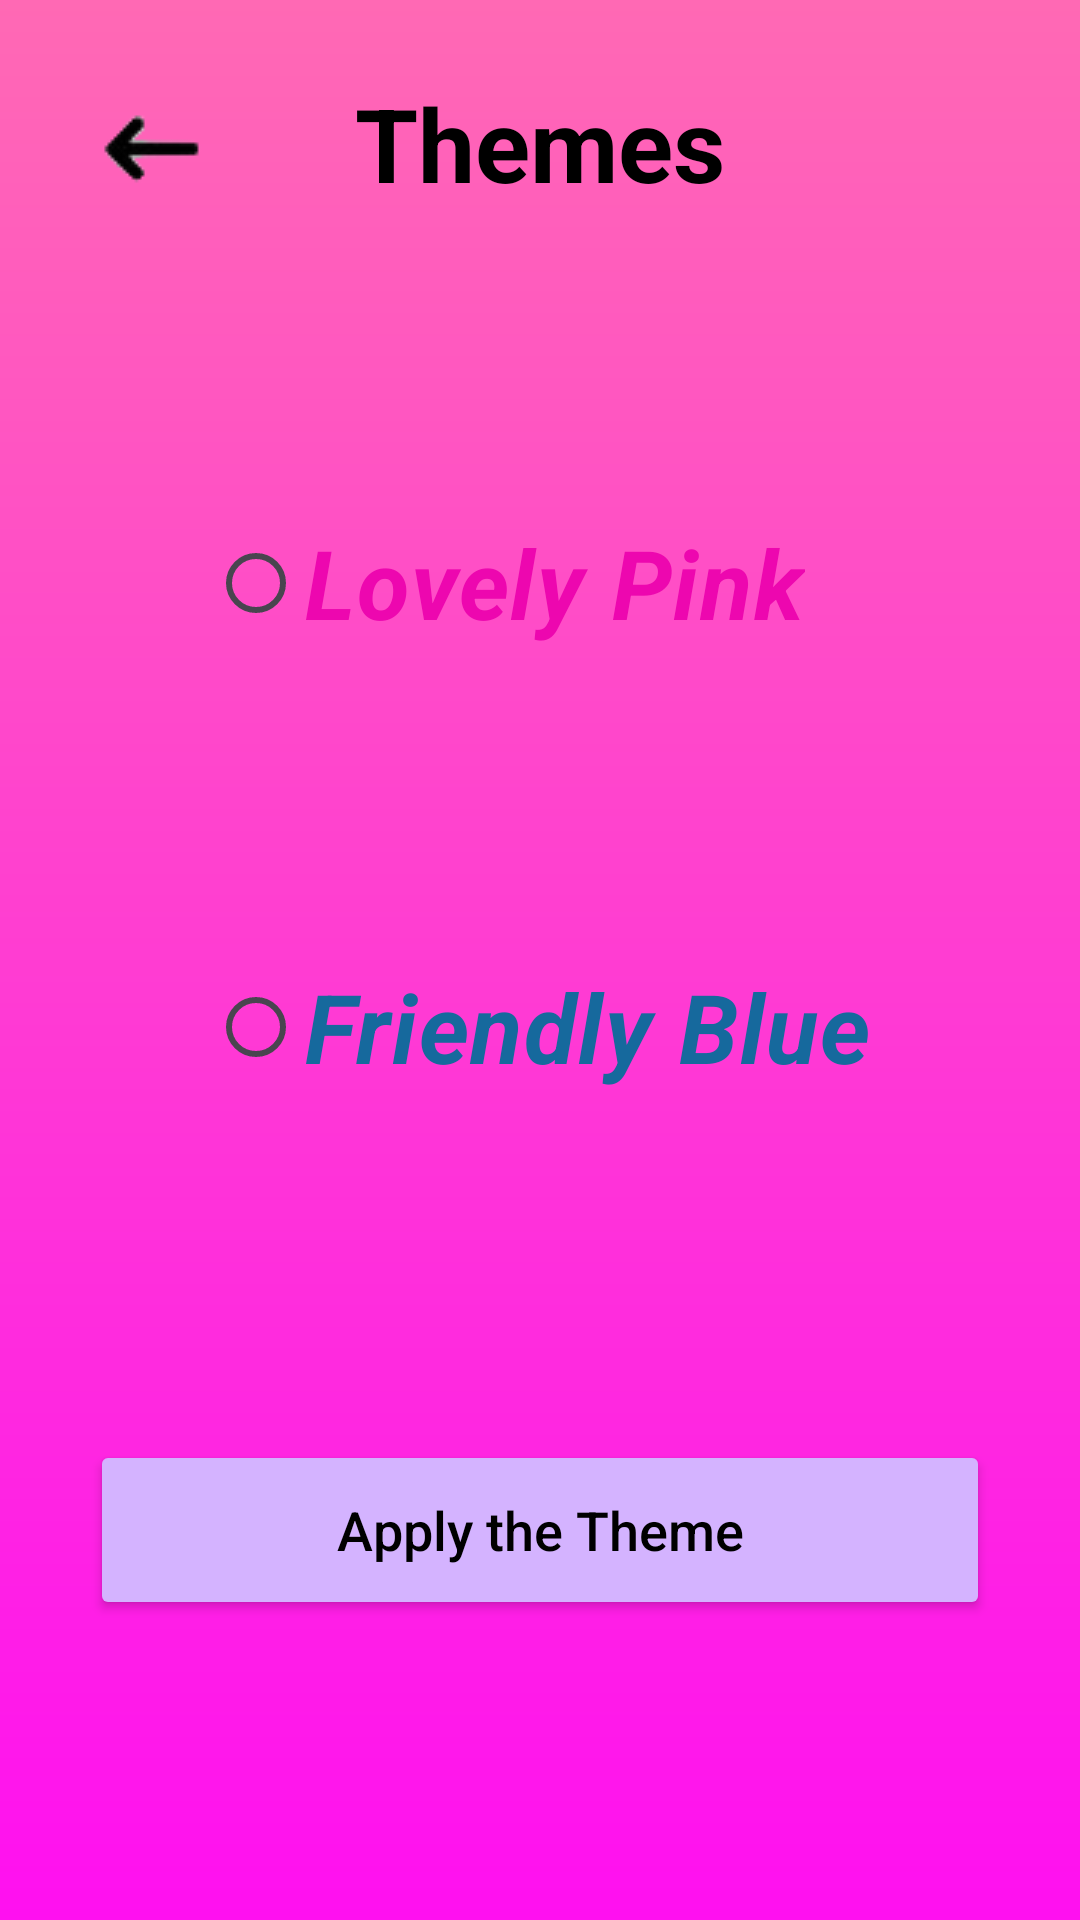

Locate icon controls on the screen. Image size 1080px x 1920px, boxes as detection(x1, y1, x2, y2).
Return: detection(104, 115, 199, 182)
